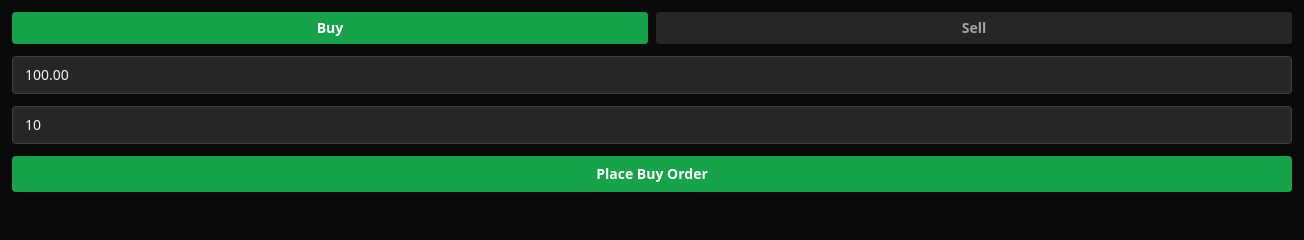
Scenario: OrderForm › submits order and shows status
The width and height of the screenshot is (1304, 240).
Click the button "Place Buy Order": point(652, 174) [12,156,1292,192]
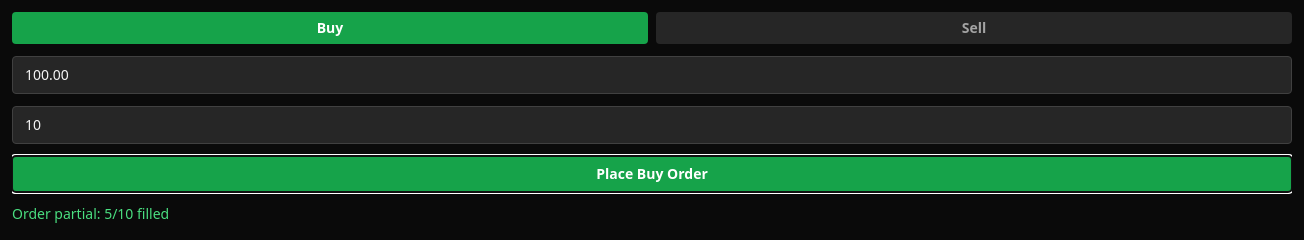
Result: the text "Order partial: 5/10 filled" is shown at [12,204,169,223]
